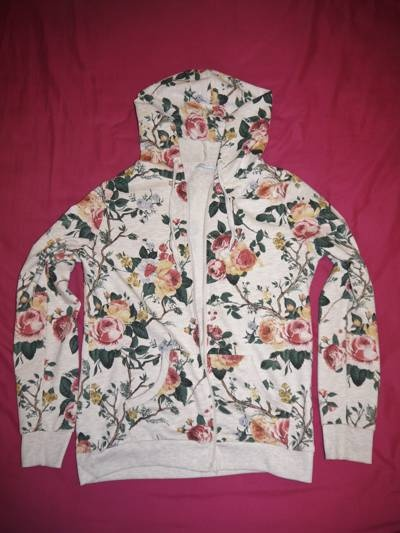Hoodie: (19, 56, 385, 487)
